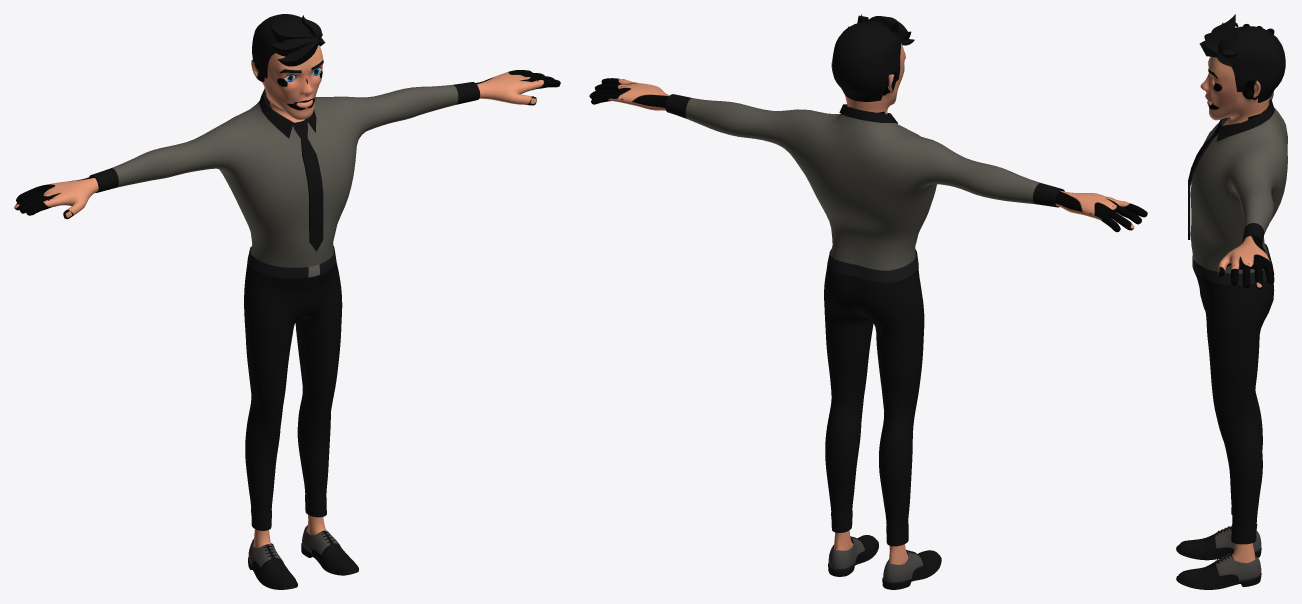
File: Male.fbx
3 views of the same model, side by side, from view 1: azimuth 30°, elevation 25°; view 2: azimuth 150°, elevation 25°; view 3: azimuth 270°, elevation 25° (orthographic). The views are drawn at different scales.
Visible parts, largest first — view 1: D_1, D_3, Body, Shoes, Hair, D_2; view 2: D_1, D_3, Body, Hair, Shoes; view 3: D_3, D_1, Body, Hair, Shoes, D_2.
Boxes of the visible parts, left/top/right/bottom form: D_1: left=89, top=82, right=480, bottom=267; D_3: left=244, top=246, right=342, bottom=530; Body: left=14, top=45, right=560, bottom=547; Shoes: left=248, top=525, right=358, bottom=589; Hair: left=252, top=14, right=325, bottom=78; D_2: left=293, top=120, right=323, bottom=251; D_1: left=665, top=94, right=1064, bottom=270; D_3: left=824, top=248, right=924, bottom=546; Body: left=589, top=43, right=1147, bottom=564; Hair: left=832, top=14, right=914, bottom=101; Shoes: left=828, top=535, right=941, bottom=589; D_3: left=1192, top=244, right=1274, bottom=544; D_1: left=1190, top=92, right=1287, bottom=273; Body: left=1200, top=23, right=1274, bottom=562; Hair: left=1199, top=14, right=1285, bottom=102; Shoes: left=1176, top=526, right=1261, bottom=589; D_2: left=1188, top=120, right=1222, bottom=239.
Bounding box in the file's own units: 797 × 777 × 145.
